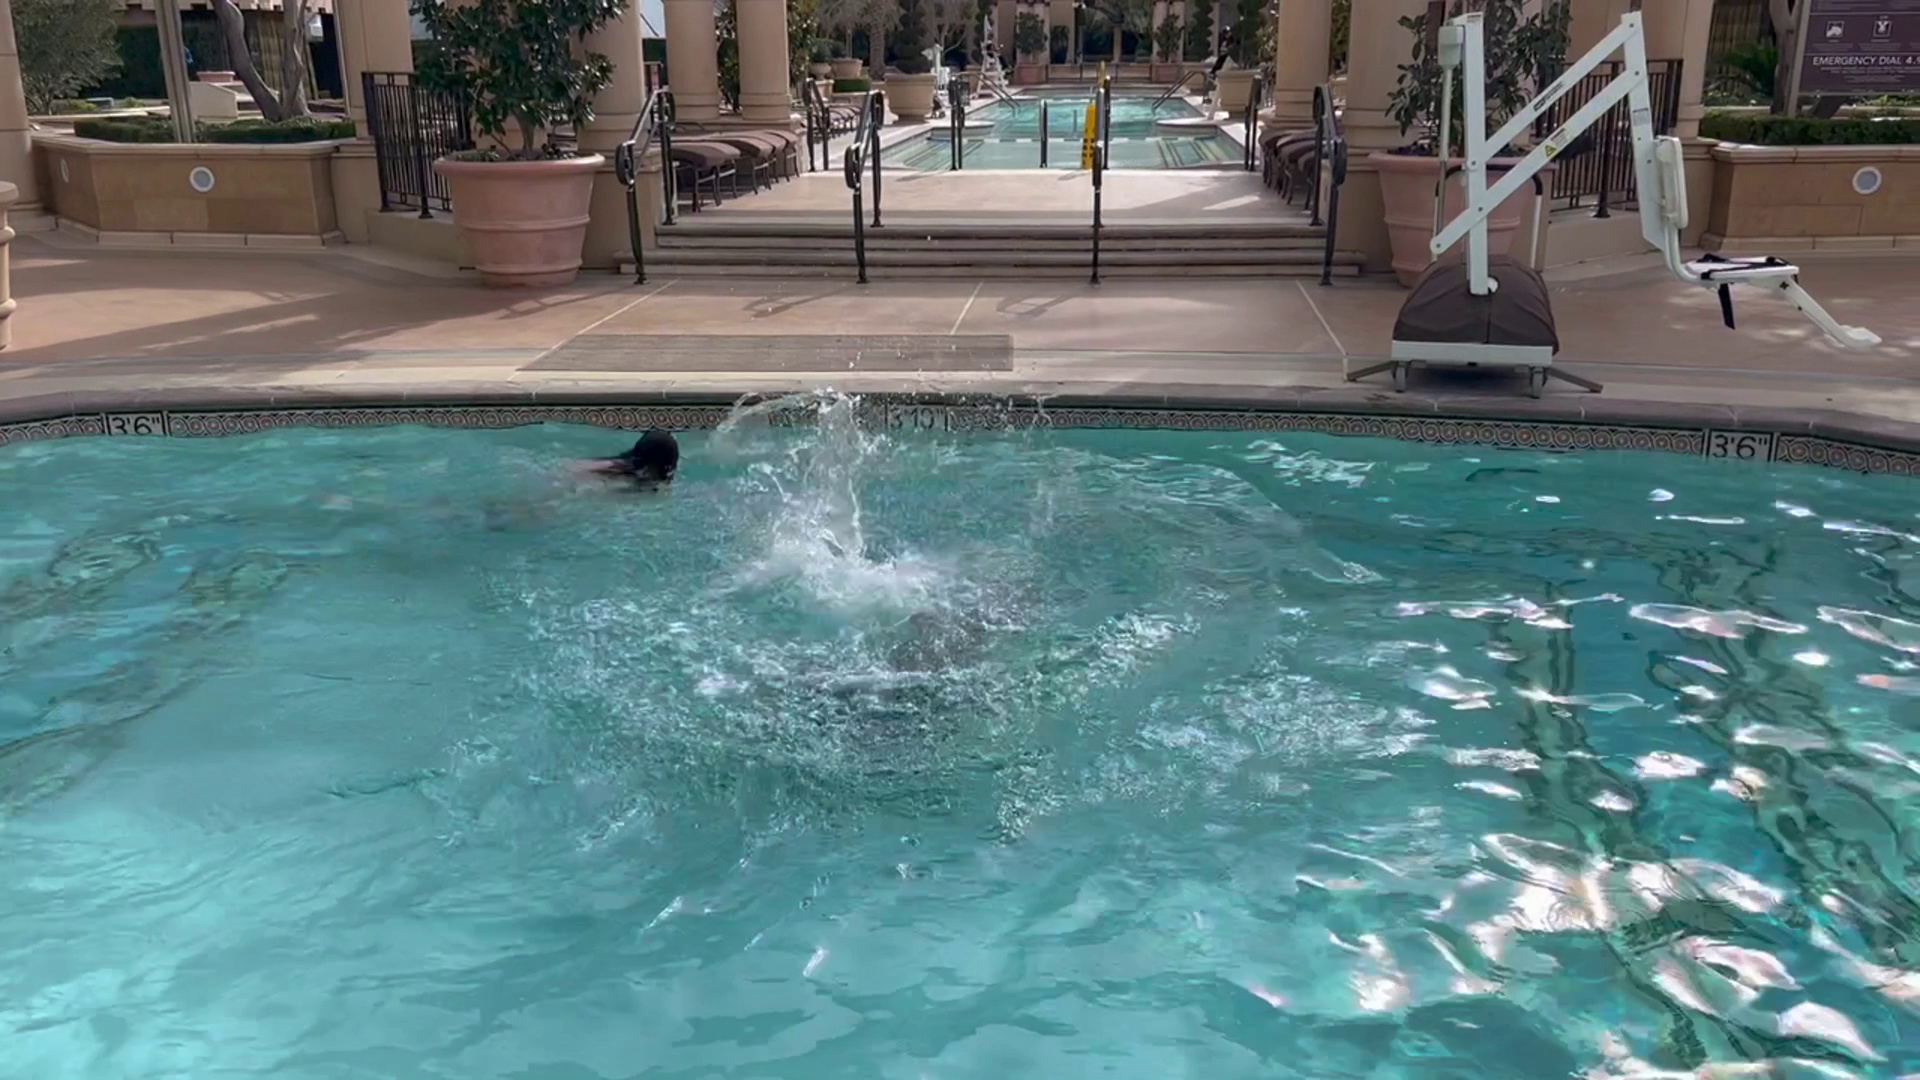danger: (736, 462, 1065, 669)
